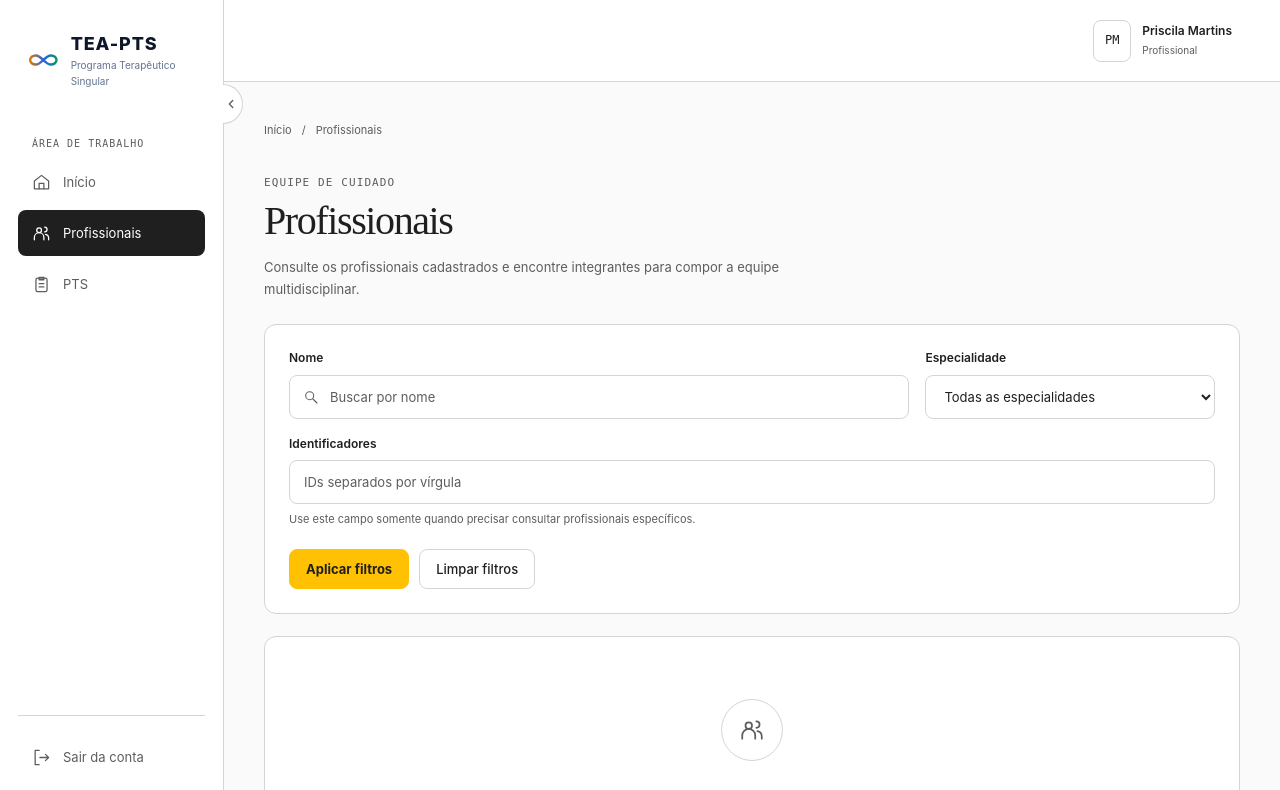
it: ProfessionalsPage › aplica filtros por nome e especialidade
This screenshot has width=1280, height=790.
Type "Maria" into the field with placeholder "Buscar por nome" at [599, 397], box [289,375,910,419]
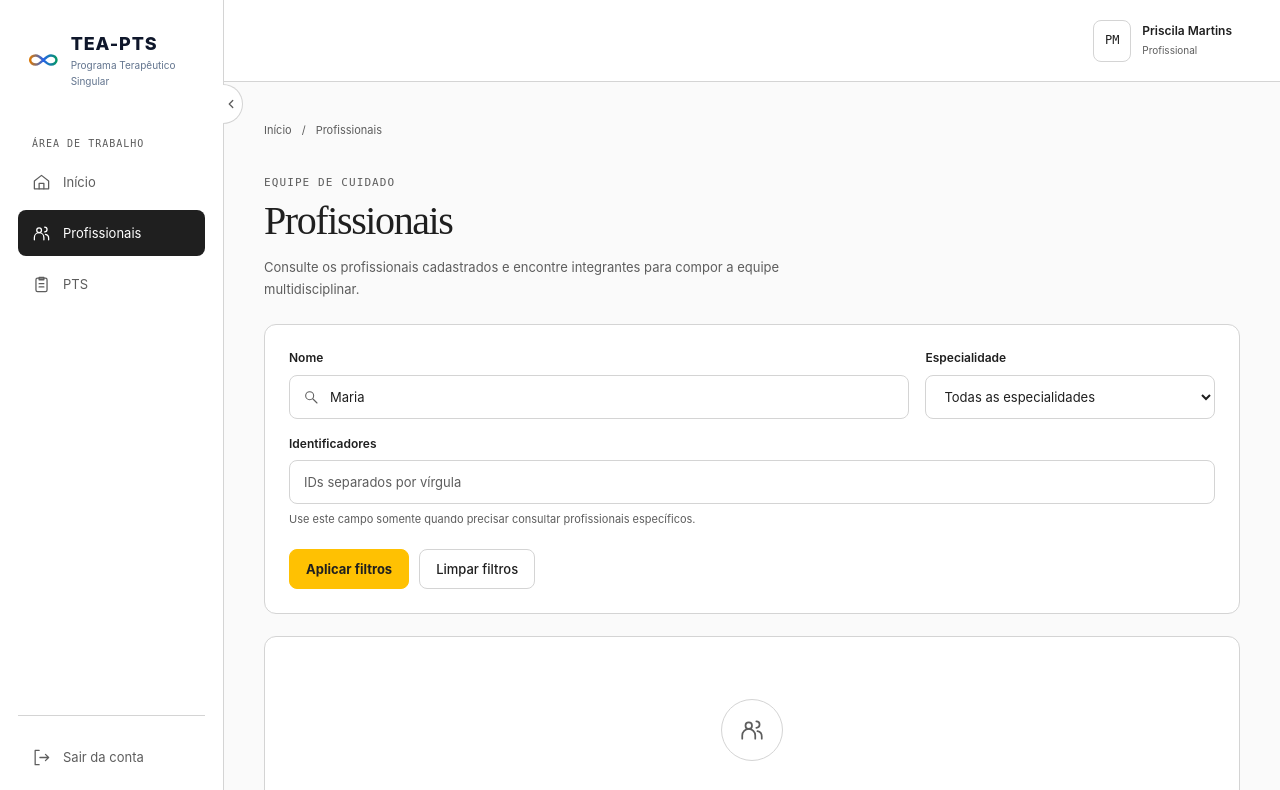
Select "Psicologia" in the dropdown labelled "Especialidade" at [1070, 397], box [926,375,1215,419]
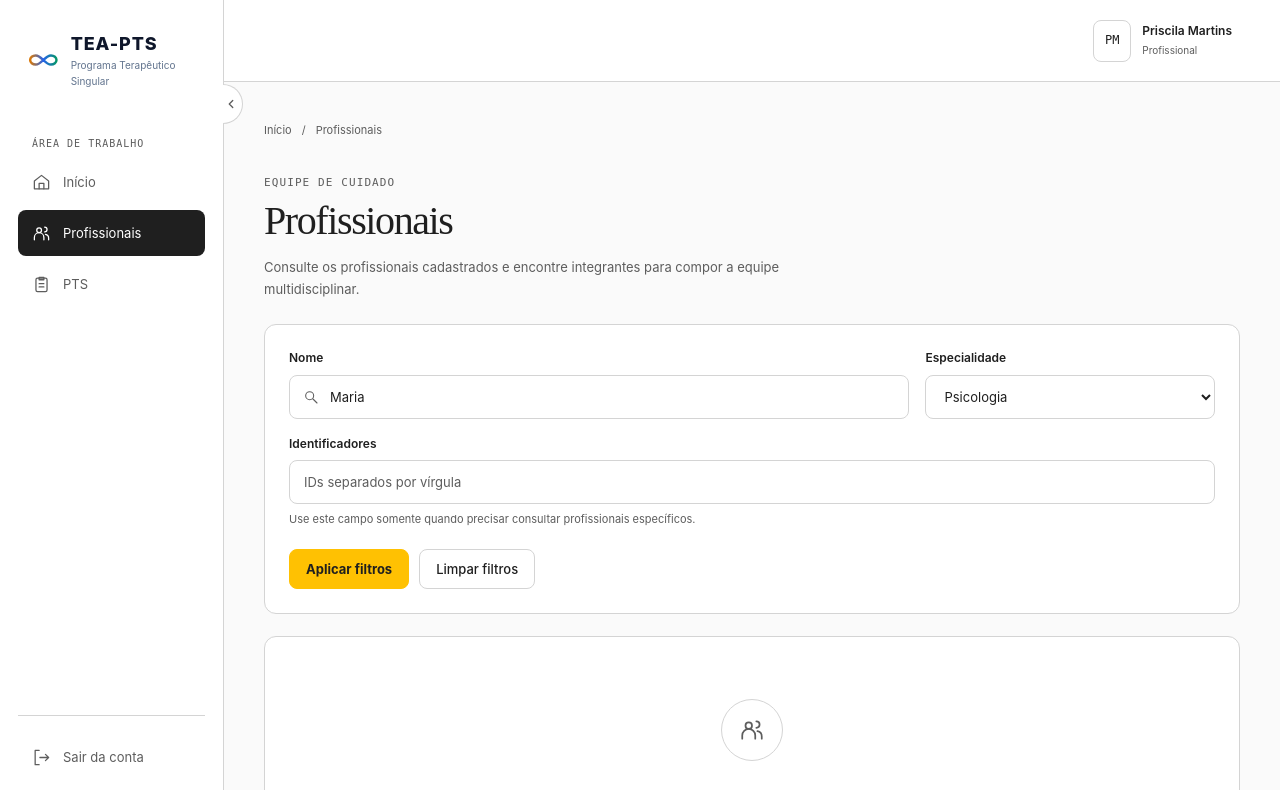
Click the button "Aplicar filtros" at [349, 569], box [289,549,409,589]
(page scrolled)
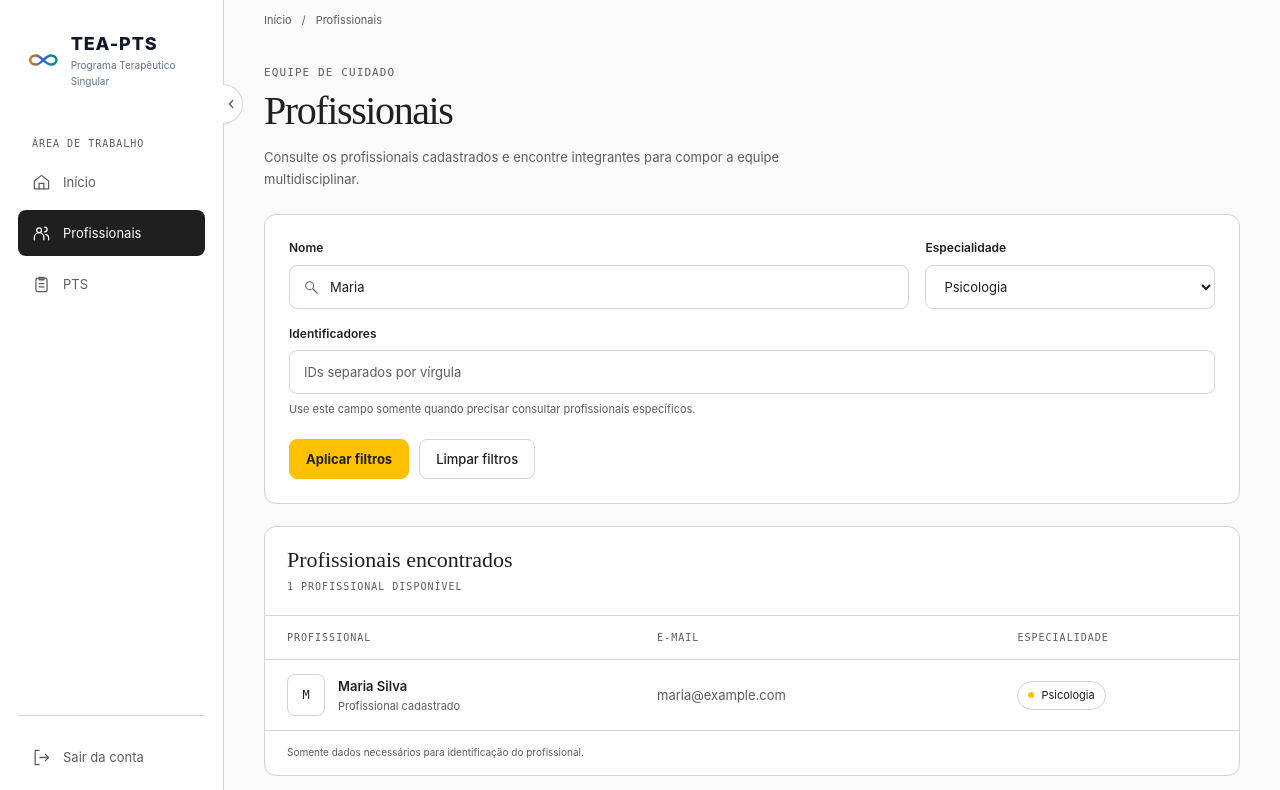
Check: the text "Maria Silva" is shown, box [338,678,407,694]
